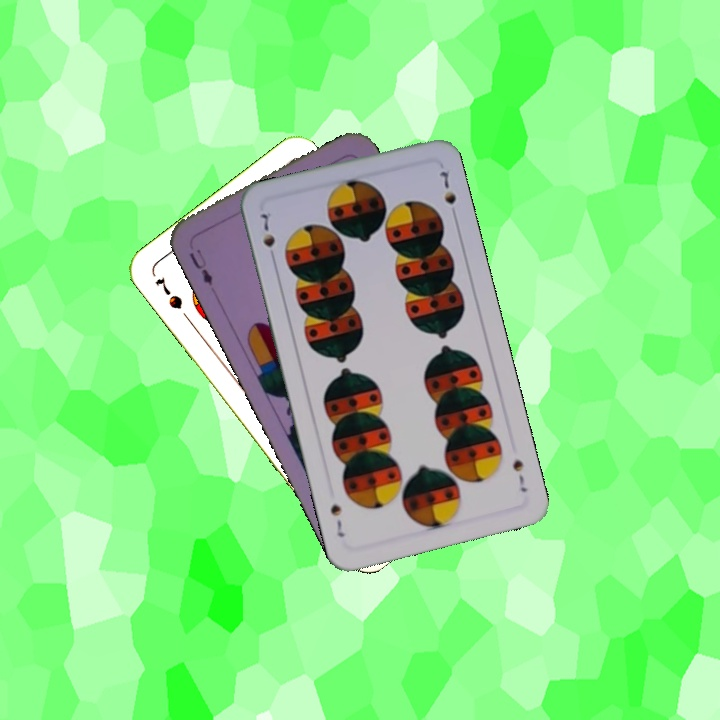EU: (185, 244, 216, 288)
S7: (151, 273, 186, 312), (256, 209, 278, 265), (508, 456, 530, 495)
